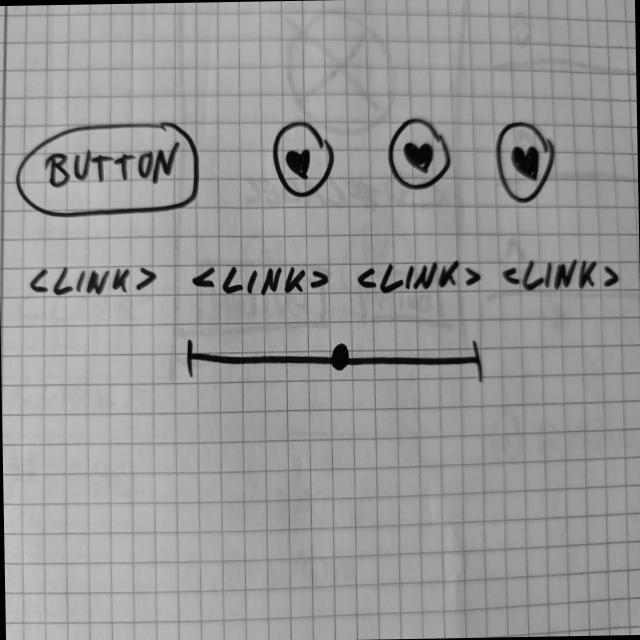button: (14, 116, 205, 224)
icon-button: (269, 119, 339, 206), (493, 120, 559, 210), (386, 115, 454, 194)
link: (500, 251, 623, 299), (190, 259, 333, 300), (354, 255, 483, 300), (27, 261, 160, 303)
slider: (182, 331, 489, 392)
